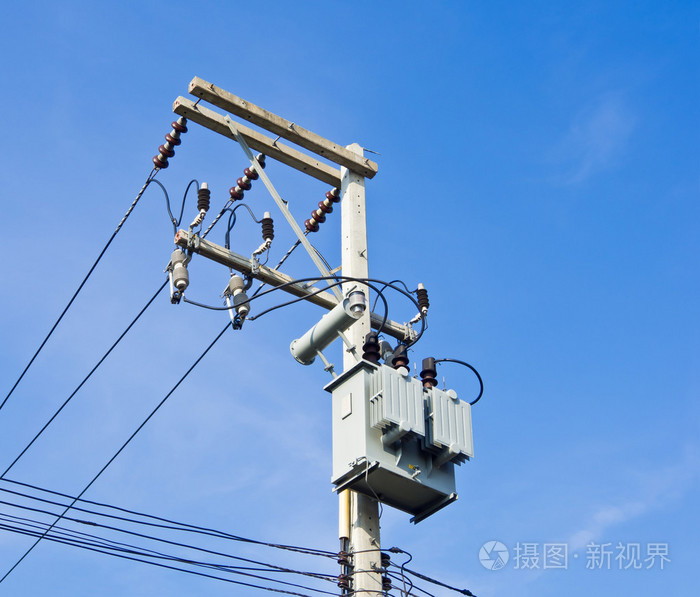insulator: (302, 188, 338, 231), (229, 156, 264, 199), (153, 121, 184, 169)
